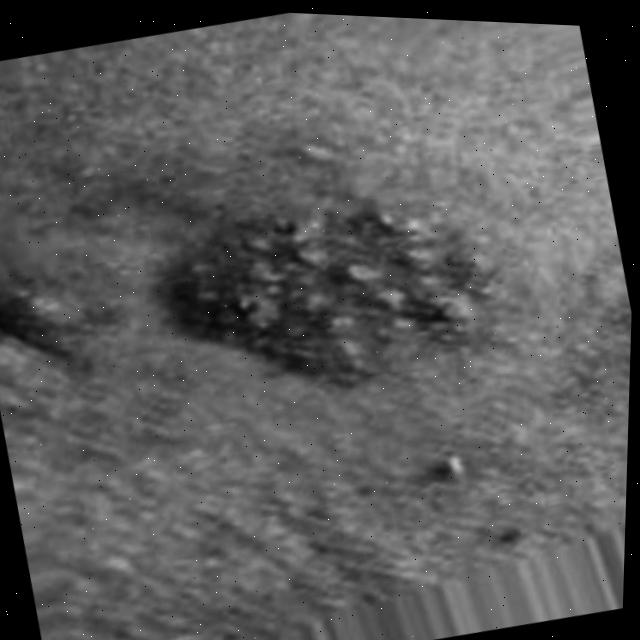Shingles: (143, 164, 508, 424)
